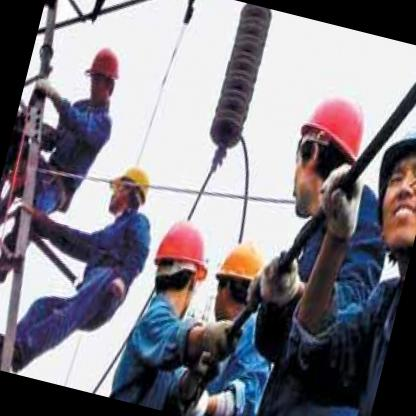helmet: (276, 76, 376, 216), (141, 211, 220, 322), (358, 109, 416, 258), (202, 226, 274, 328), (76, 41, 128, 112), (104, 156, 160, 220)
